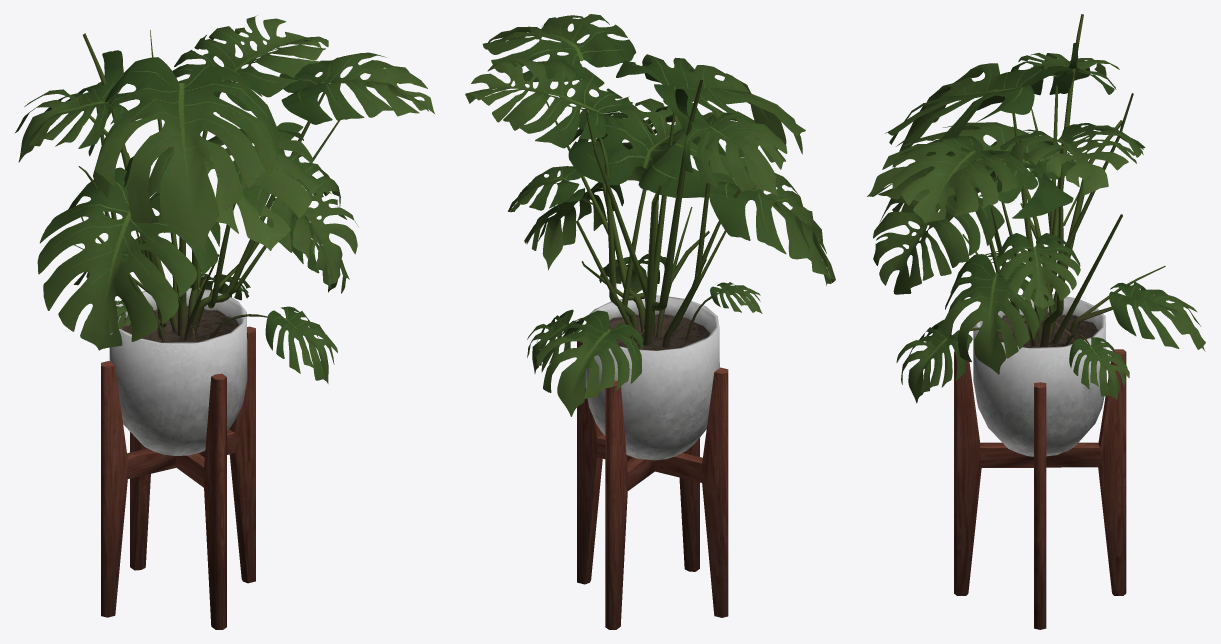
File: office-plantA.glb
3 renders of one model, left to right at view 1: azimuth 30°, elevation 25°; view 2: azimuth 150°, elevation 25°; view 3: azimuth 270°, elevation 25°, orthographic. The views are drawn at different scales.
Visible parts, largest first — view 1: Leaves_Mat.1_0, Stand_Mat_0, root_HP_1_Mat.2_0; view 2: Leaves_Mat.1_0, Stand_Mat_0, root_HP_1_Mat.2_0; view 3: Leaves_Mat.1_0, Stand_Mat_0, root_HP_1_Mat.2_0.
Part boxes in pixels (box(x1,y1,x2,y2)): Leaves_Mat.1_0: box(15, 15, 434, 383); Stand_Mat_0: box(101, 287, 255, 629); root_HP_1_Mat.2_0: box(74, 30, 339, 342); Leaves_Mat.1_0: box(465, 14, 835, 416); Stand_Mat_0: box(577, 295, 728, 629); root_HP_1_Mat.2_0: box(546, 79, 740, 349); Leaves_Mat.1_0: box(867, 42, 1205, 403); Stand_Mat_0: box(954, 294, 1126, 629); root_HP_1_Mat.2_0: box(962, 14, 1165, 347).
Size of the model in its own units: 1.01 by 1.51 by 0.8549.
3 materials, 3 textured.
